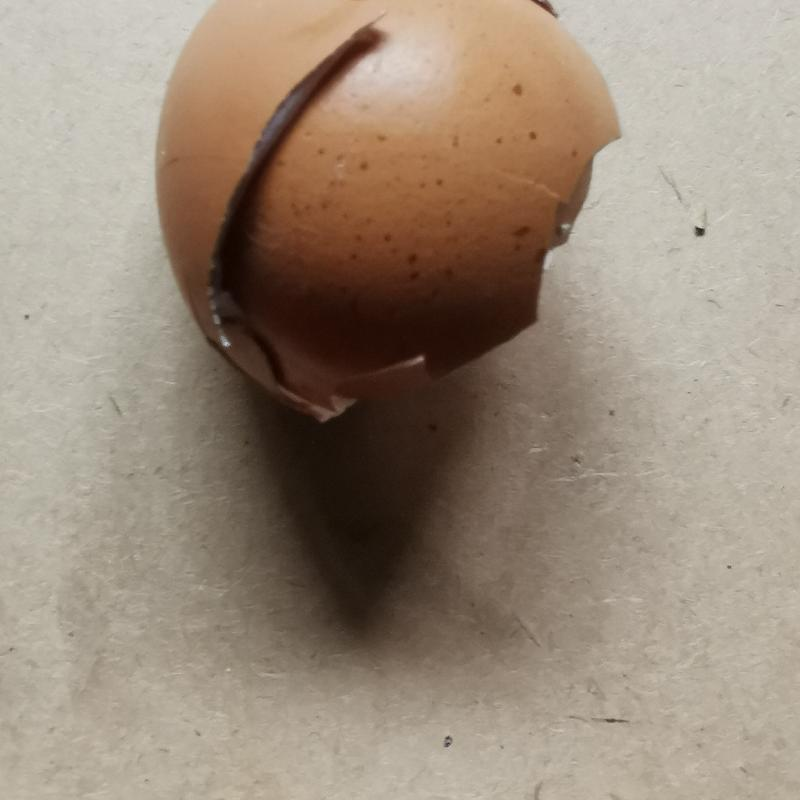eggshell: (149, 4, 622, 429)
